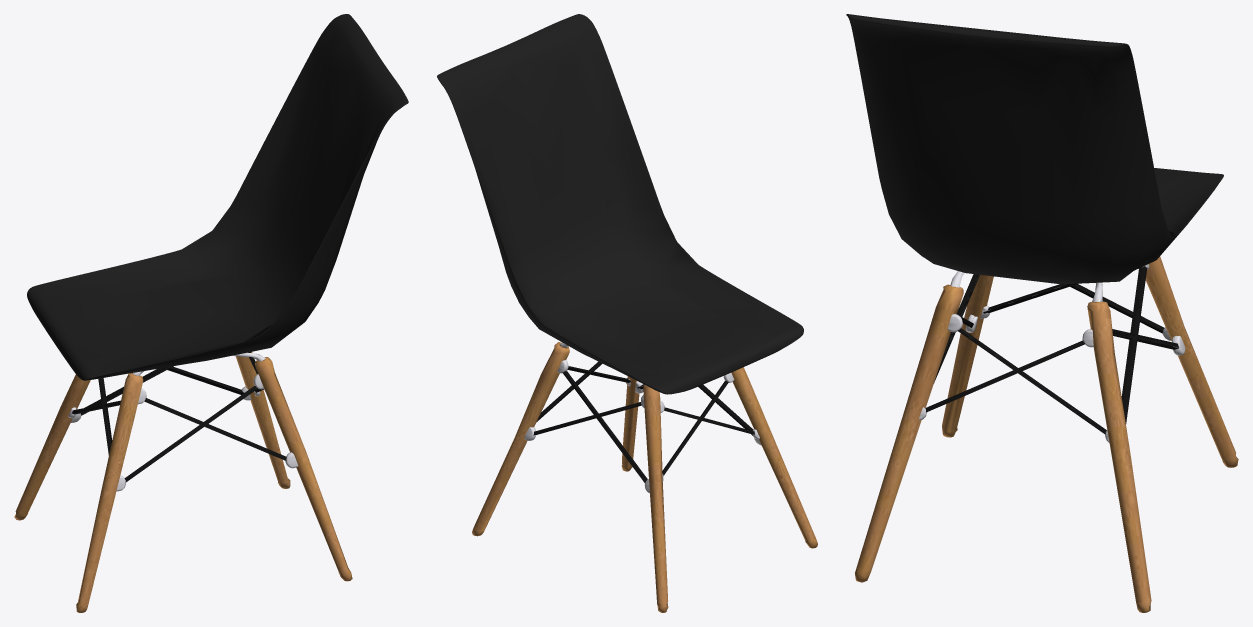
File: Chair.glb
The picture shows the model from 3 angles, left to right: view 1: azimuth 30°, elevation 25°; view 2: azimuth 150°, elevation 25°; view 3: azimuth 270°, elevation 25°; orthographic projection. The views are drawn at different scales.
Parts seen in each view (by area): view 1: Chair _instance.001; view 2: Chair _instance.001; view 3: Chair _instance.001.
Part boxes in pixels (box(x1,y1,x2,y2)): Chair _instance.001: box(14, 14, 408, 612); Chair _instance.001: box(437, 14, 817, 612); Chair _instance.001: box(846, 14, 1238, 612).
Bounding box in the file's own units: 0.7416 × 0.9813 × 0.5813.
2 materials, 1 textured.
